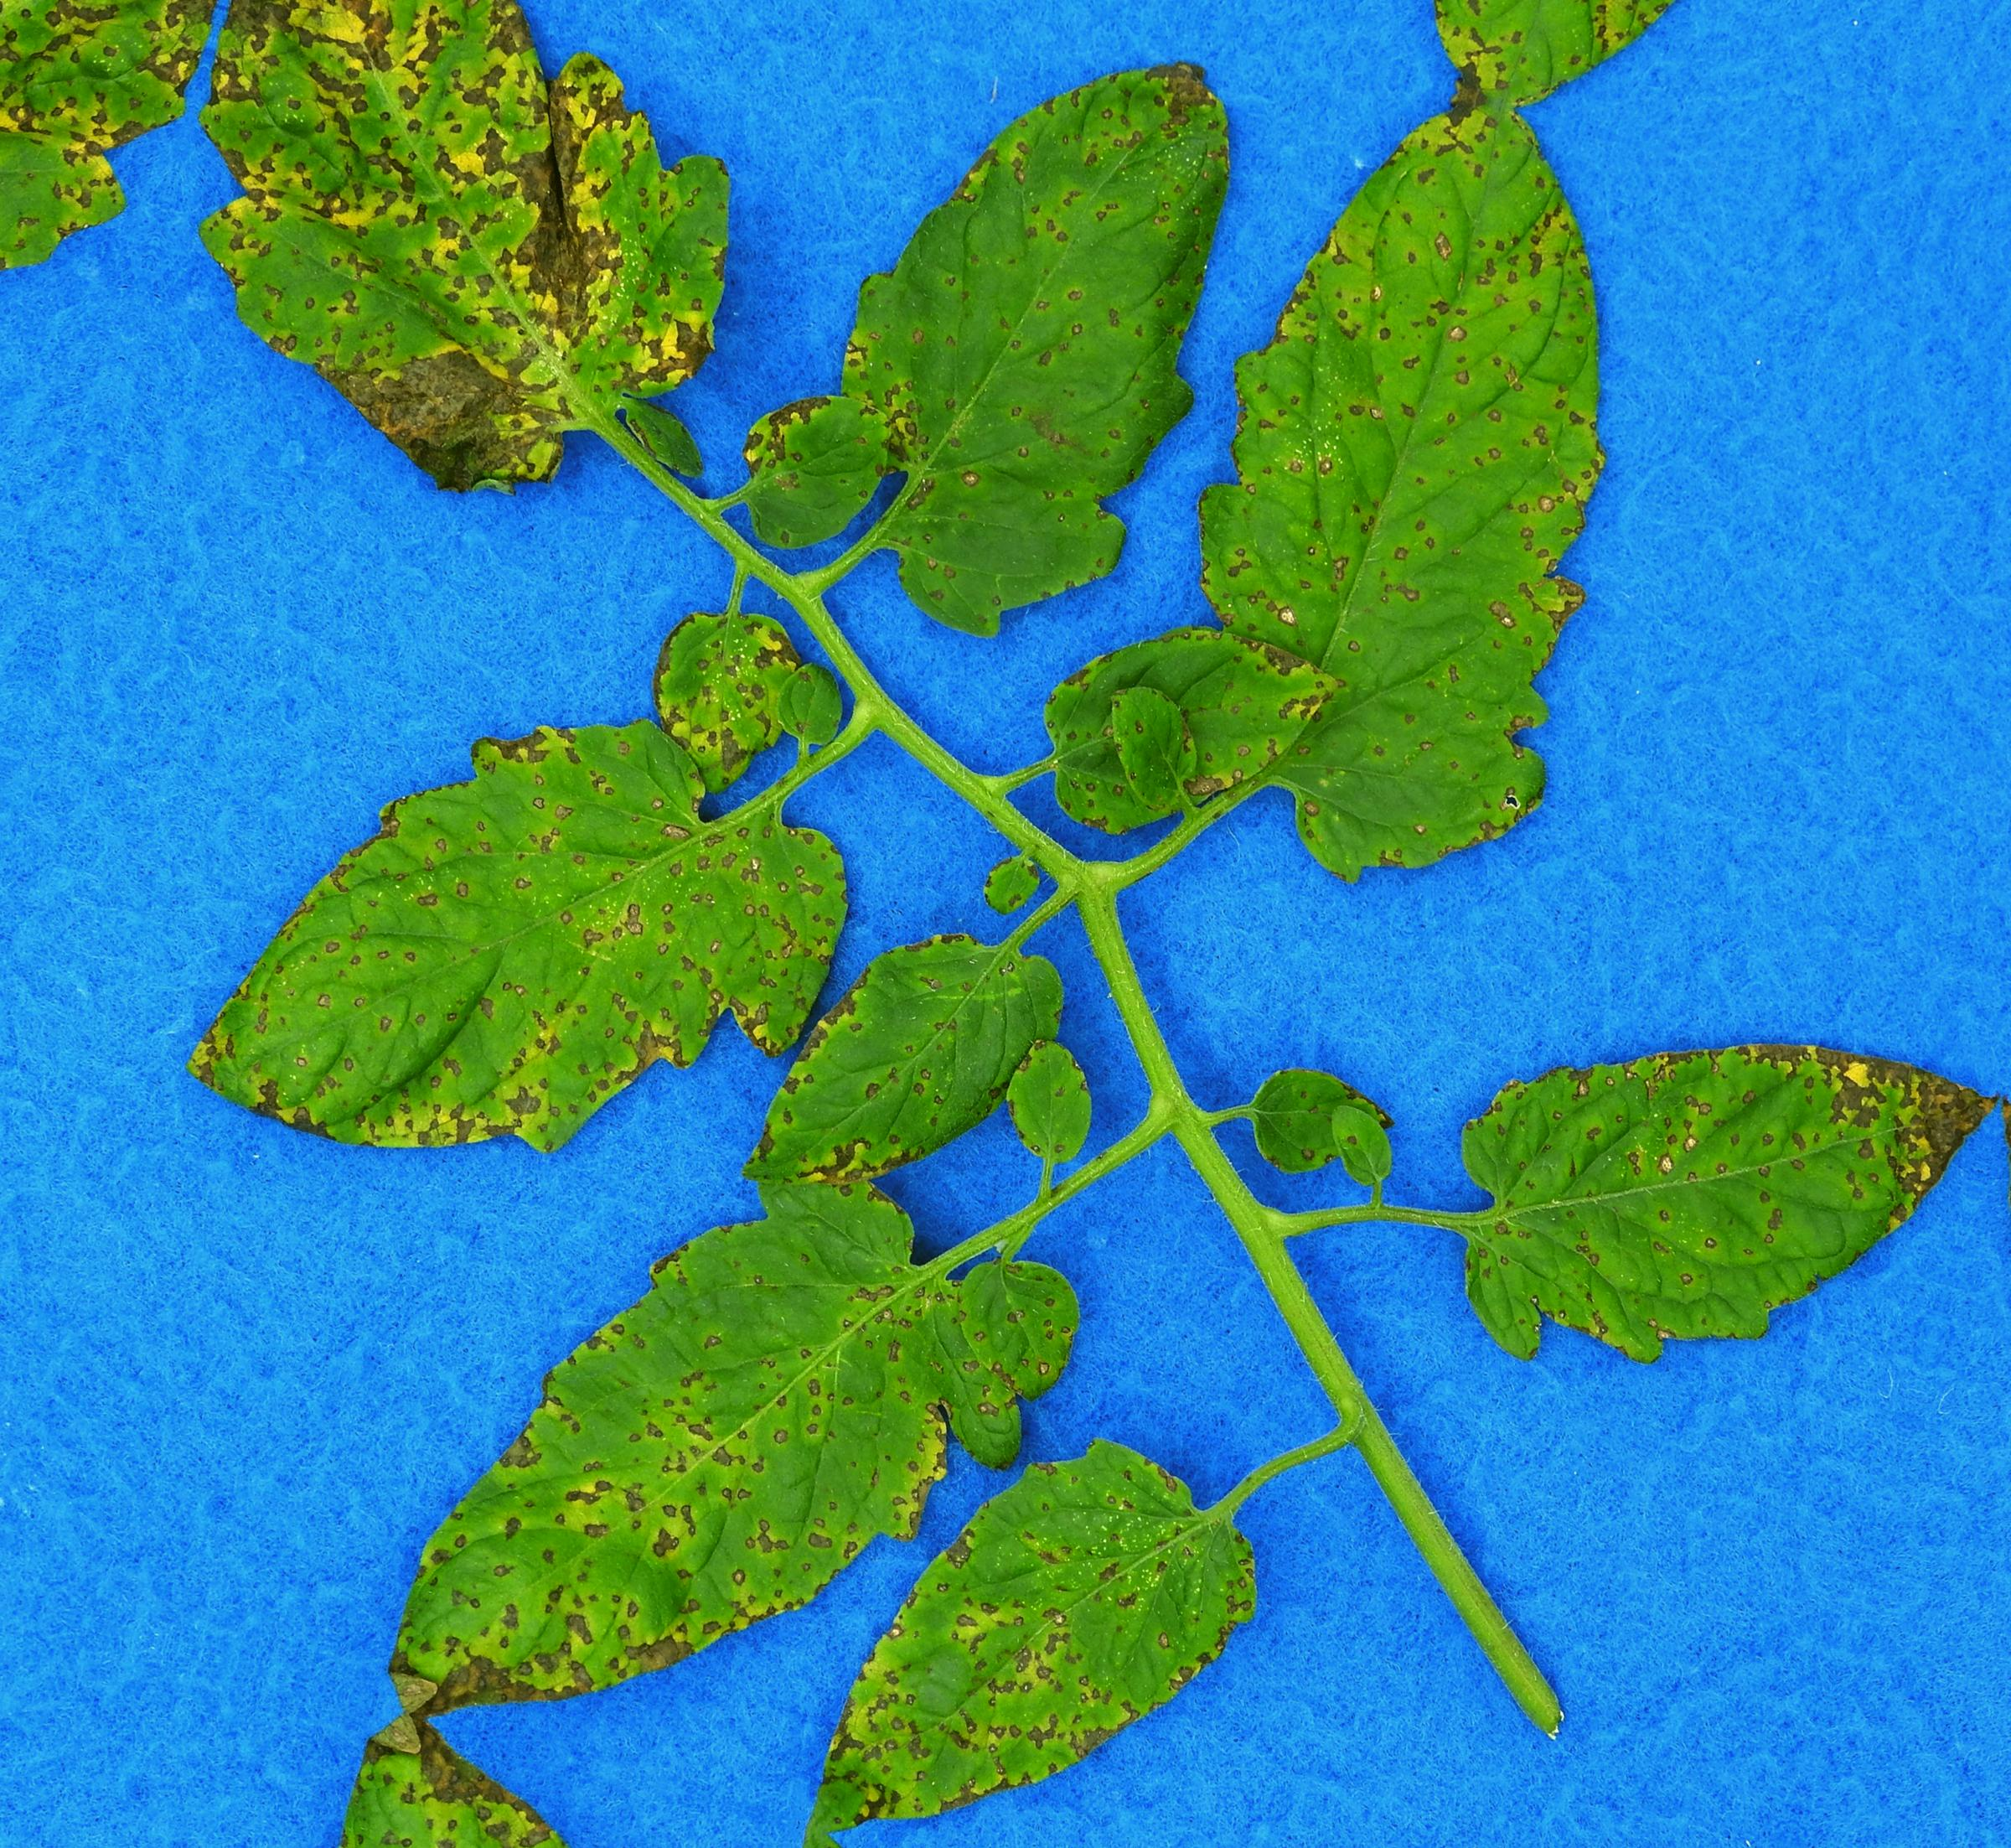Tomato Septoria leaf spot: (1051, 47, 1728, 1035), (371, 1054, 1078, 1848), (174, 619, 891, 1281), (652, 0, 1323, 691), (101, 0, 839, 593), (1388, 894, 1996, 1490), (785, 1350, 1311, 1848), (729, 871, 1078, 1250), (970, 562, 1357, 893)
